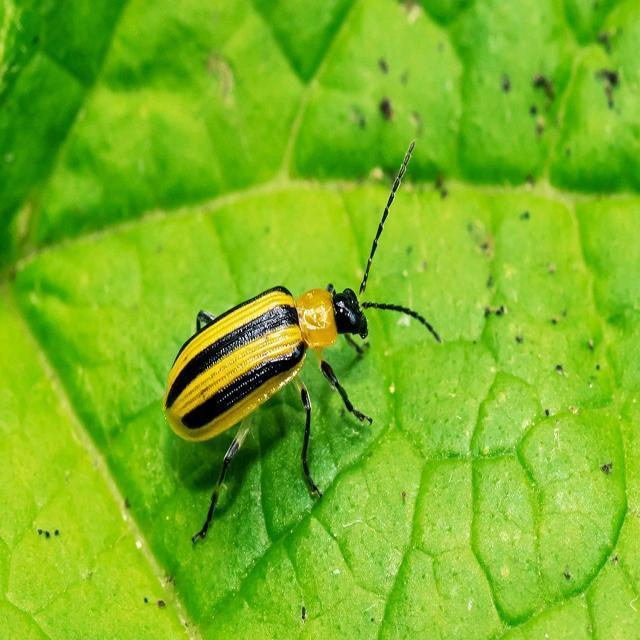trips: (163, 142, 441, 544)
